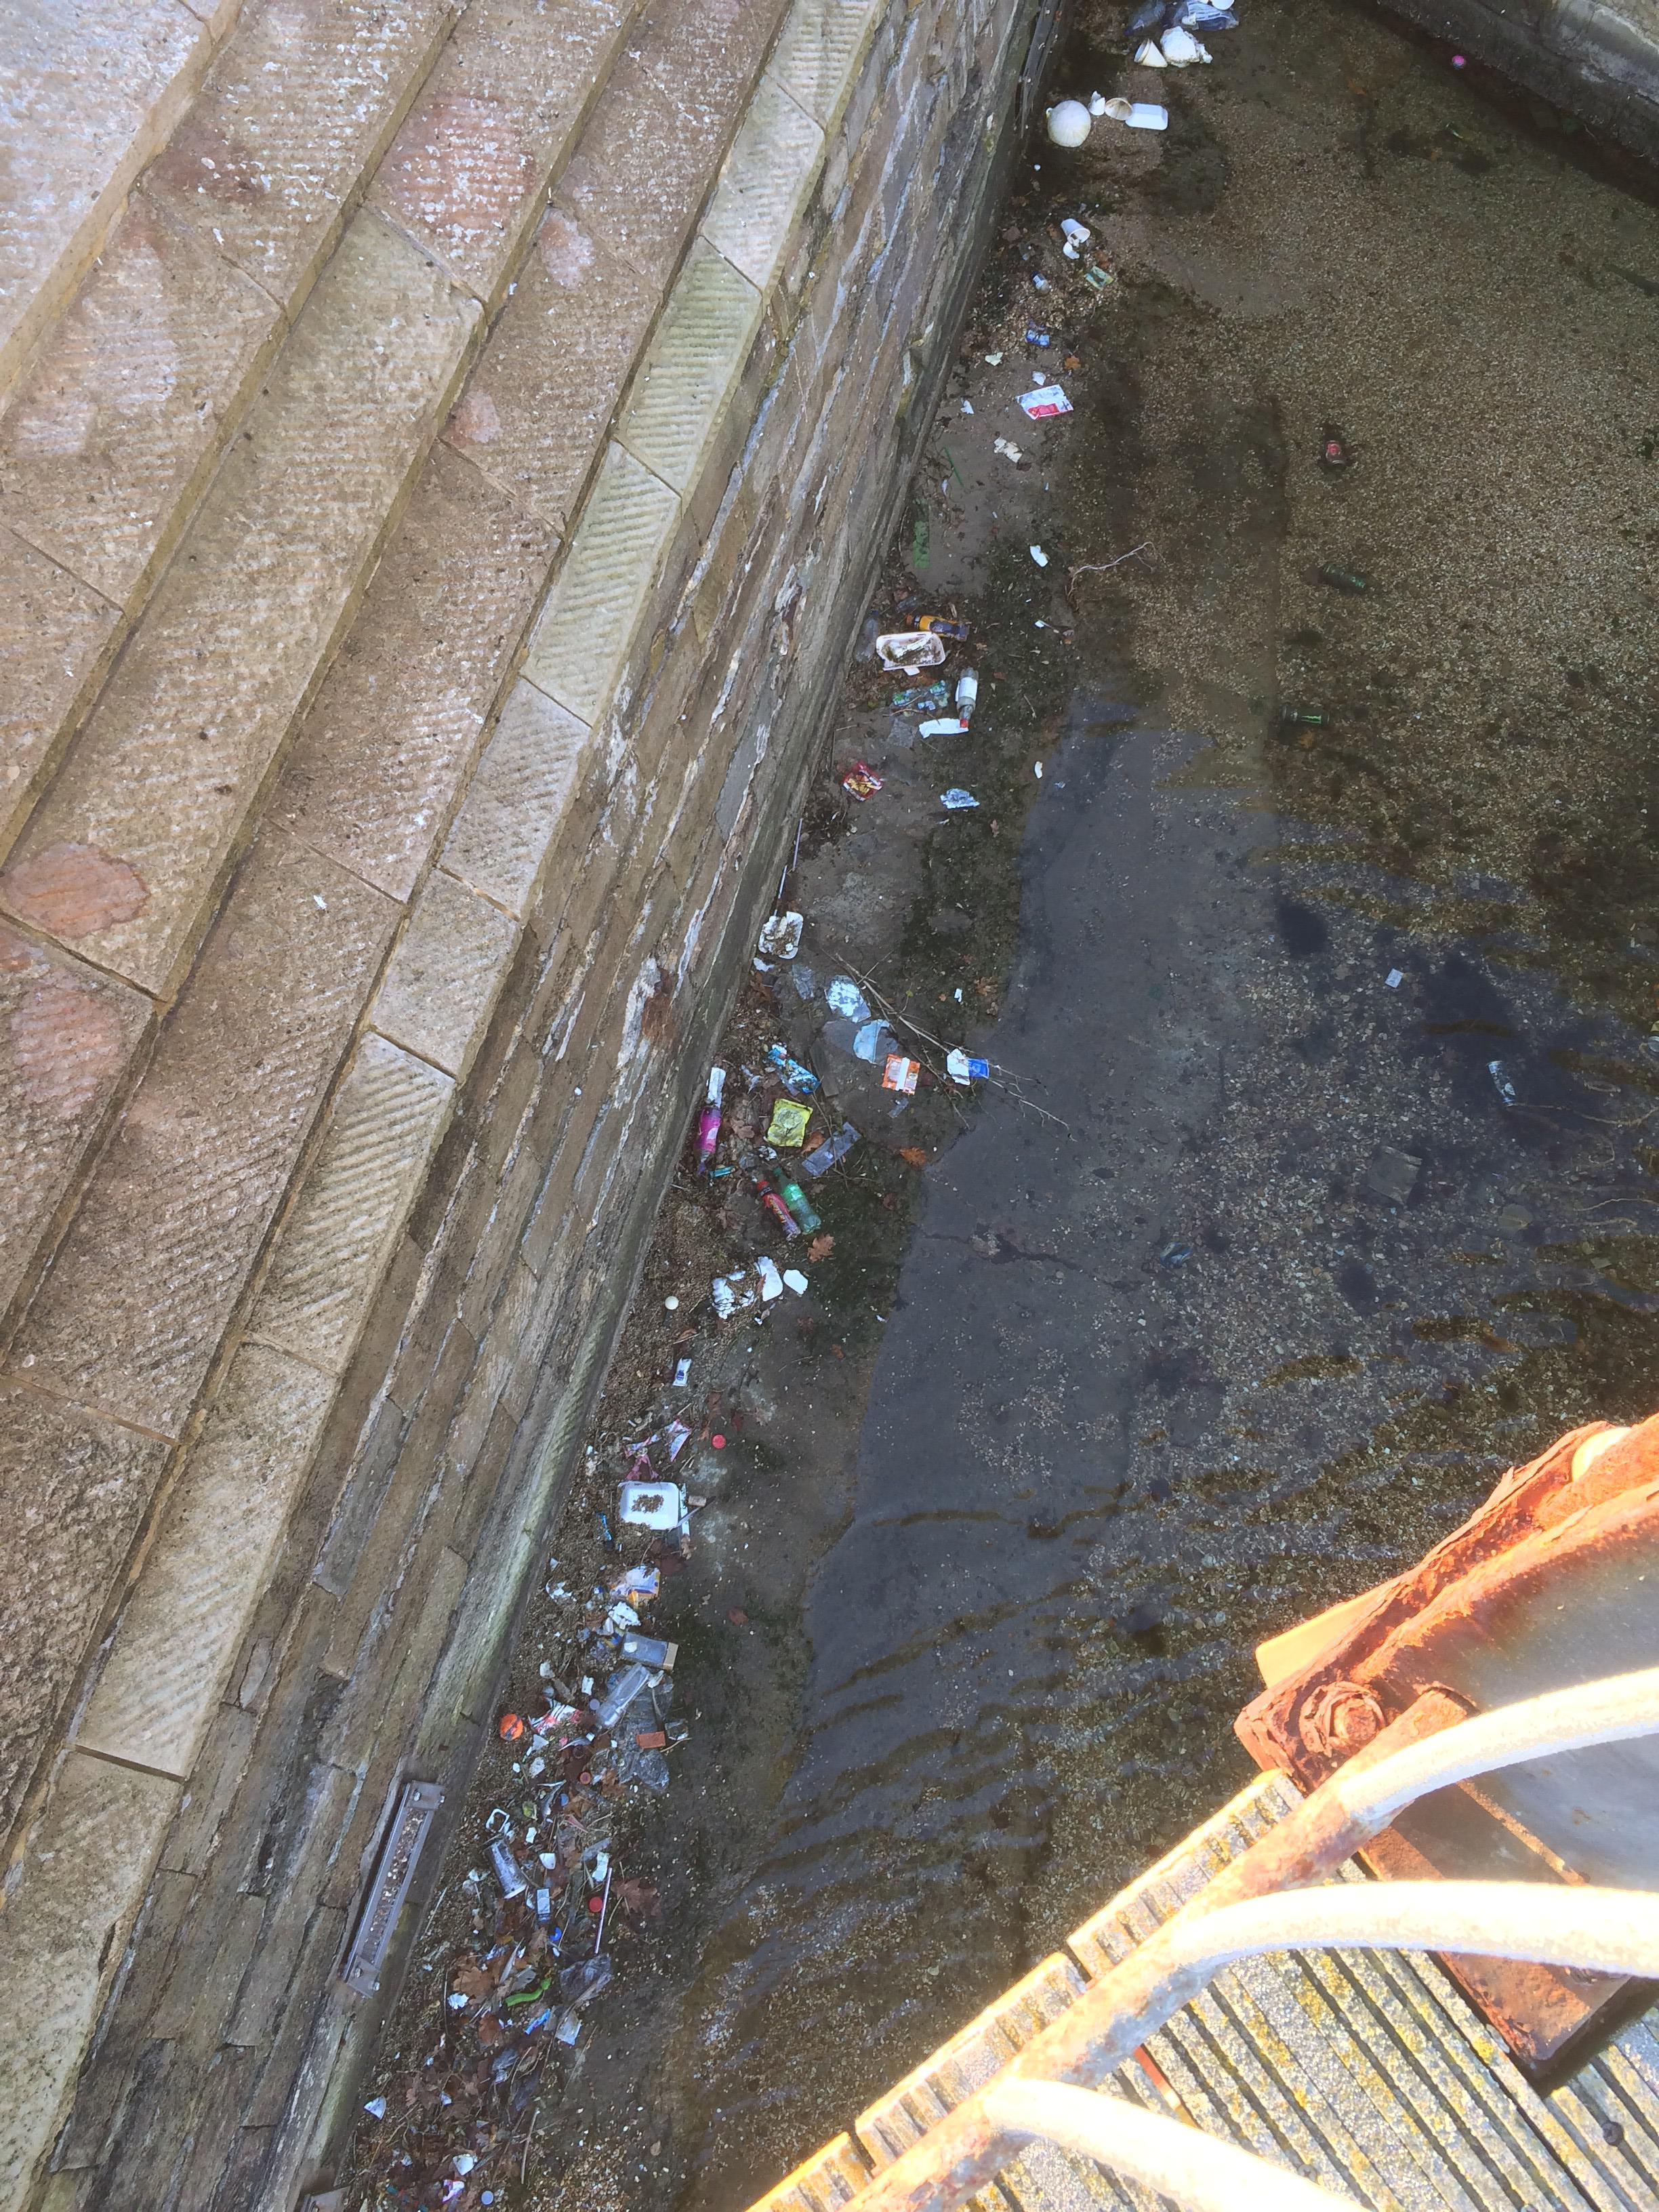Trash: (610, 1463, 687, 1545), (704, 1256, 782, 1322), (755, 1167, 823, 1240), (685, 1069, 732, 1169), (601, 1629, 633, 1728), (552, 1686, 601, 1747), (490, 1829, 526, 1907), (873, 629, 945, 669), (756, 900, 802, 960), (939, 1045, 993, 1090), (1009, 388, 1077, 418), (843, 759, 880, 801), (882, 1054, 920, 1092), (953, 664, 978, 723), (918, 718, 974, 742), (1053, 219, 1093, 247), (938, 789, 985, 812), (504, 1703, 526, 1738), (594, 1843, 608, 1890)
